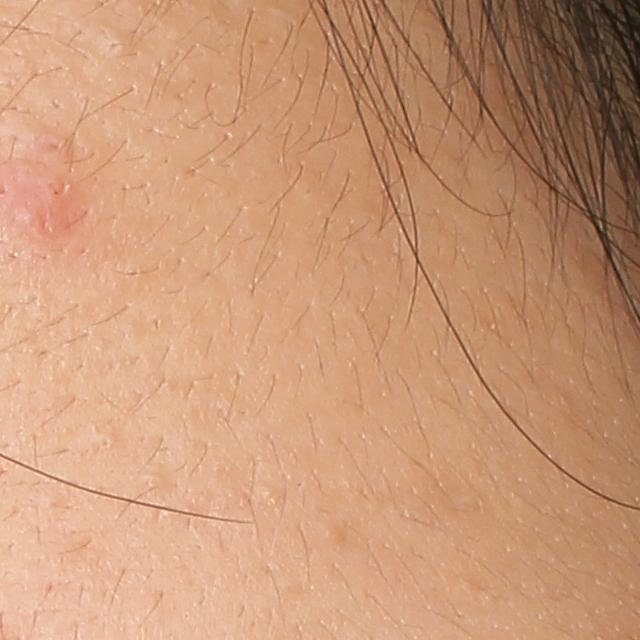comedo: (97, 27, 136, 59), (318, 517, 346, 547), (92, 432, 117, 453), (257, 485, 273, 507)
papule: (3, 160, 77, 240)
